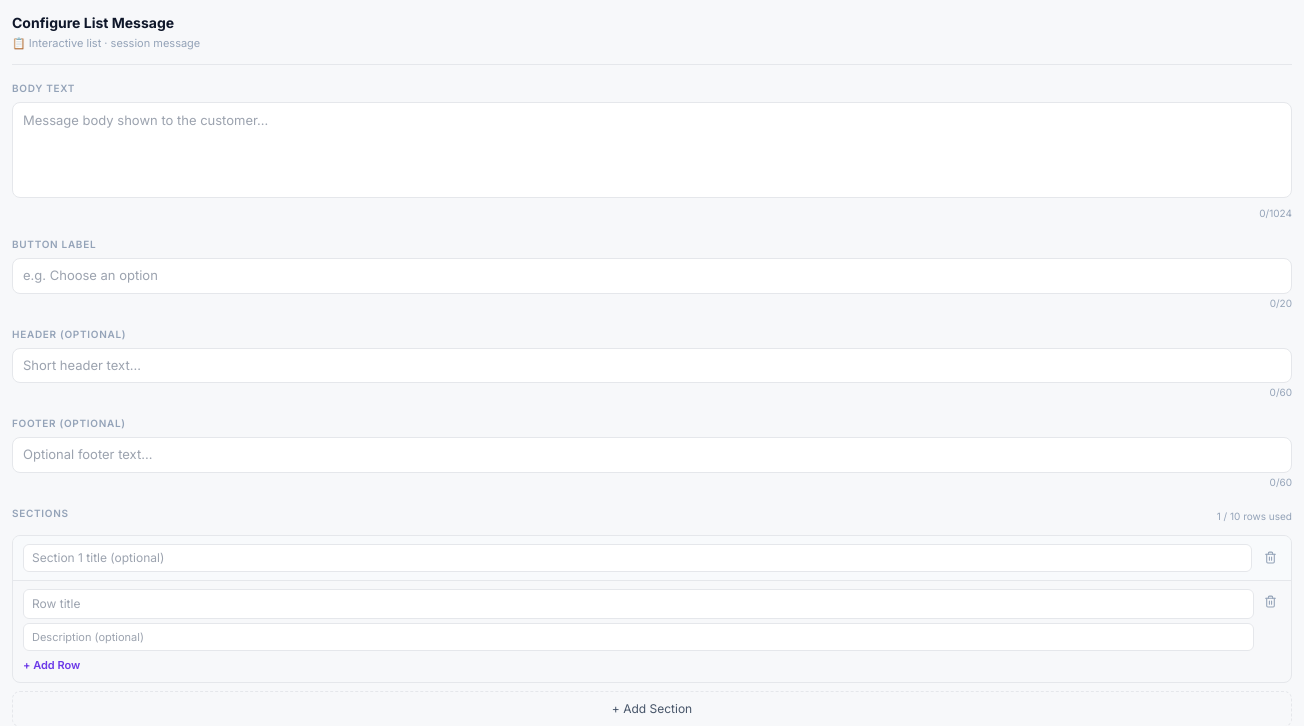
it: ListMessageForm › shows + Add Row button and adds a row on click
Click the button "+ Add Row". click: {"x": 52, "y": 665}
box: 23,657 -> 80,674
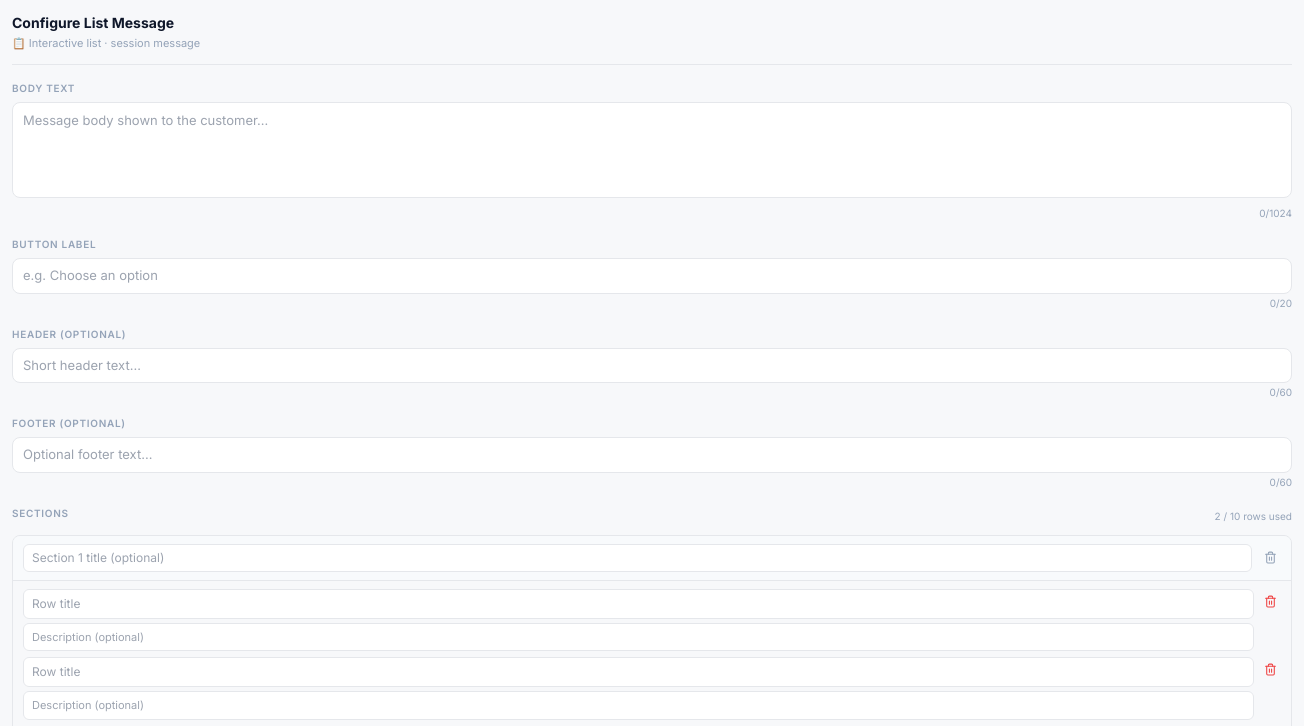
Check: the number of fields with placeholder "Row title" is 2, box 23,589 -> 1254,619; 23,657 -> 1254,687
